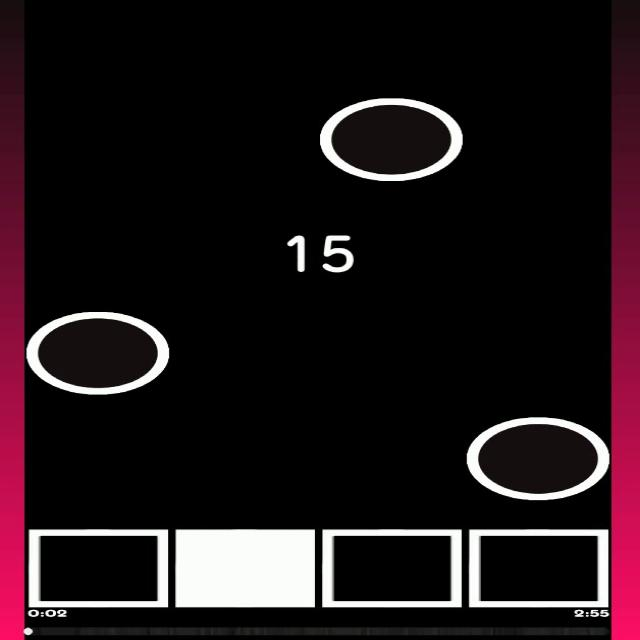note: (464, 416, 612, 500), (28, 309, 170, 394), (321, 97, 462, 182)
